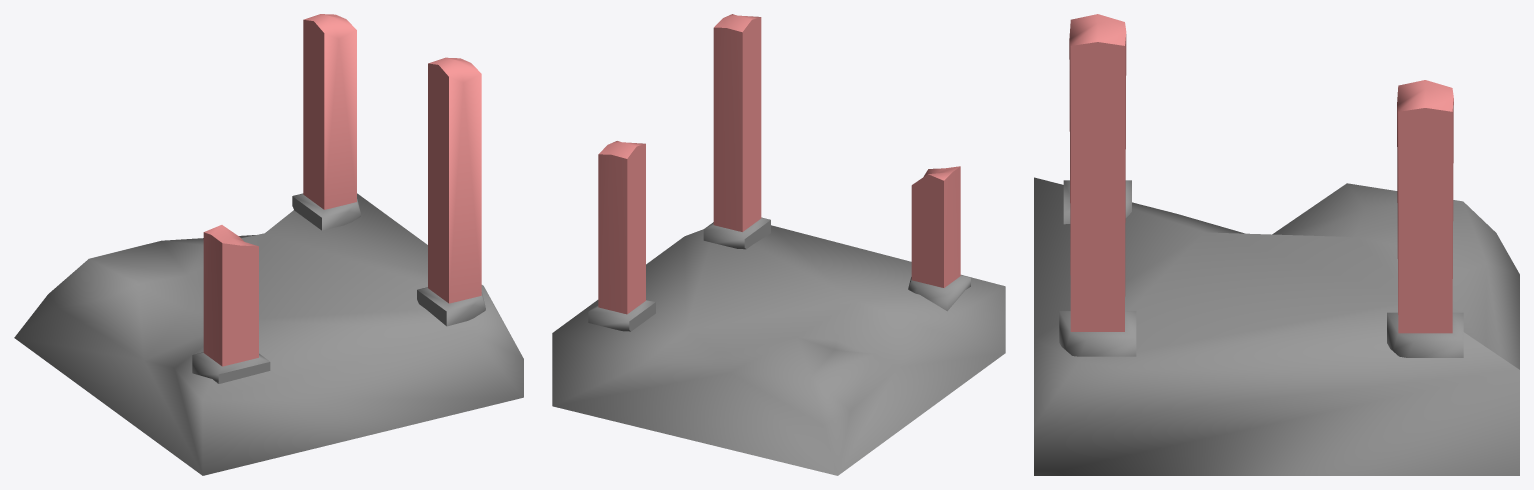
The model's file is world_obj10.gltf.
3 renders of one model, left to right at view 1: azimuth 30°, elevation 25°; view 2: azimuth 150°, elevation 25°; view 3: azimuth 270°, elevation 25°, orthographic. The views are drawn at different scales.
Visible parts, largest first — view 1: world_obj10; view 2: world_obj10; view 3: world_obj10.
Boxes of the visible parts, x1=… form: world_obj10: x1=14, y1=14, x2=523, y2=475; world_obj10: x1=552, y1=14, x2=1005, y2=475; world_obj10: x1=1034, y1=14, x2=1519, y2=475.
Bounding box in the file's own units: 2.59 × 2.55 × 2.64.
